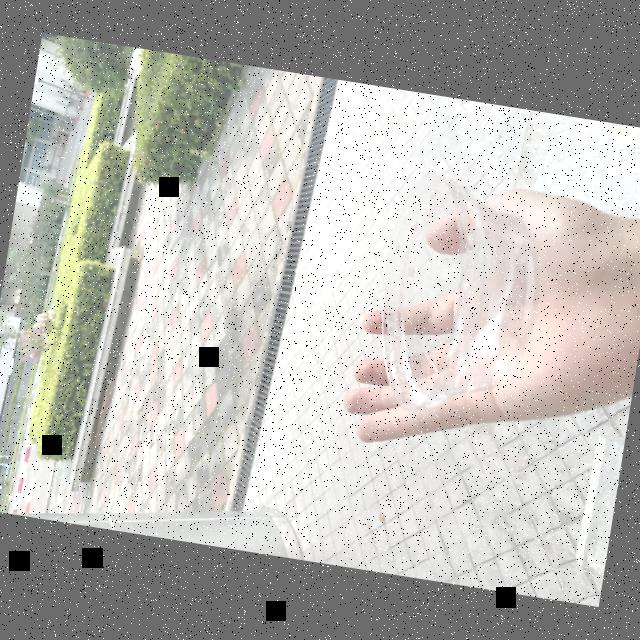plastic_cup_lid: (356, 170, 550, 428)
